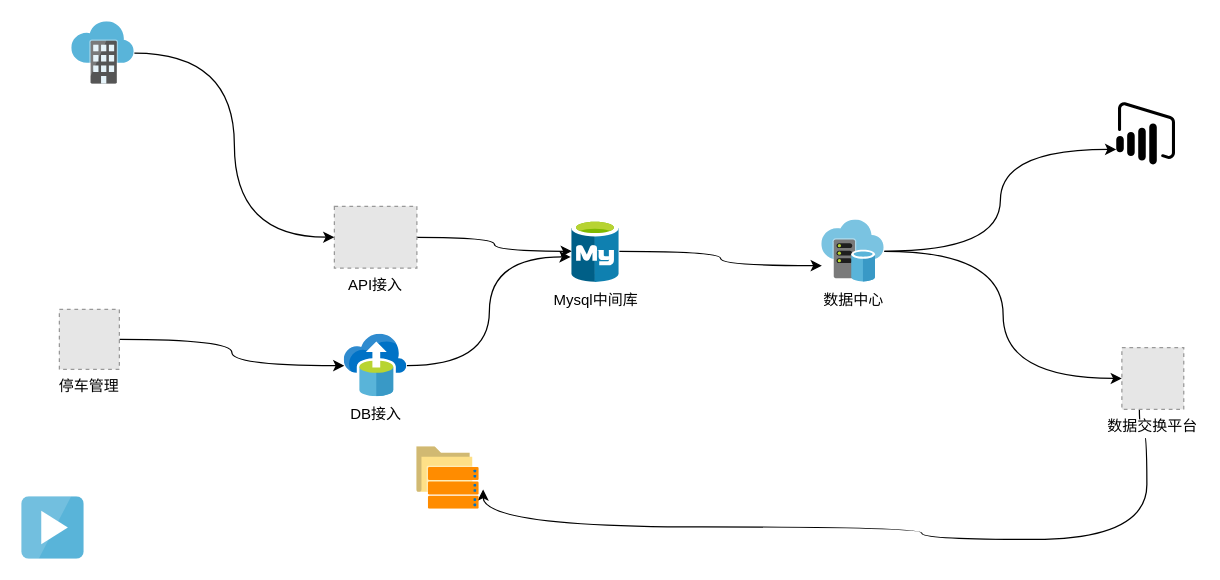
This 1220x580 diagram has some shape labels left out. Grey dashed boxes stand in for pictures. The shapes that lost their labels are listed below. From the top down, each one's box as (x1, y1, x2, y2) in pixels, then its label:
(71, 21, 134, 84): 智慧楼宇
(1116, 101, 1174, 164): CBI
(416, 446, 479, 509): 一企一档
